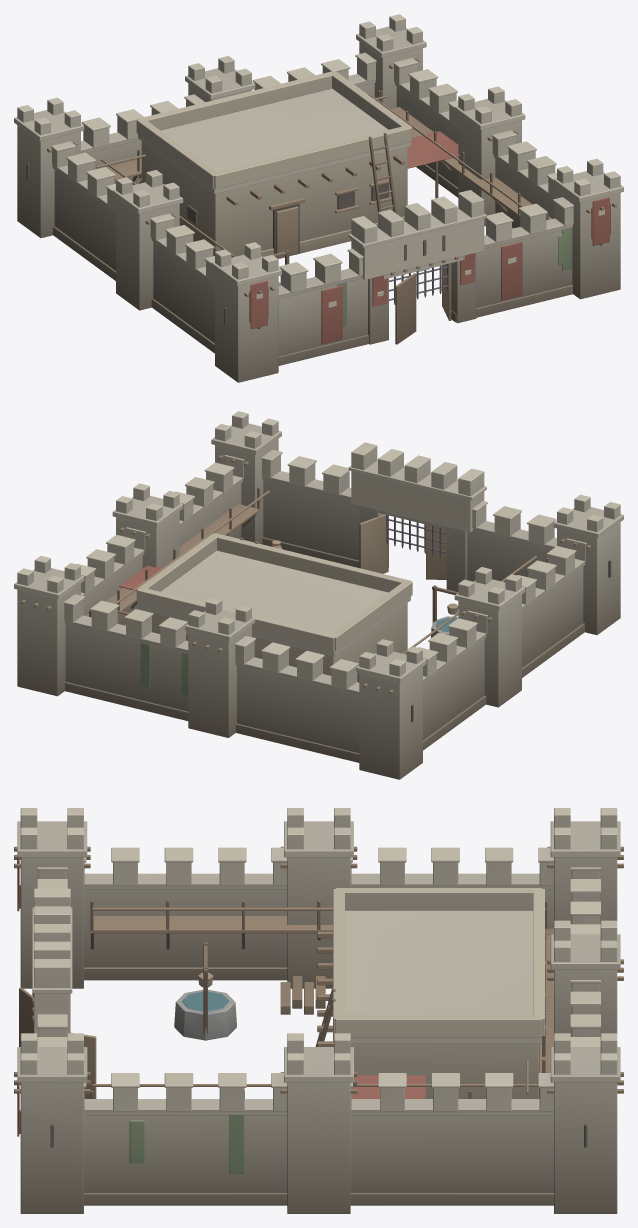
Rendered from iv_compound.glb.
The picture shows the model from 3 angles, top to bottom: view 1: azimuth 30°, elevation 25°; view 2: azimuth 150°, elevation 25°; view 3: azimuth 270°, elevation 25°; orthographic projection. The views are drawn at different scales.
Visible parts, largest first — view 1: iv_compound; view 2: iv_compound; view 3: iv_compound.
Boxes of the visible parts, x1,y1,x2,y2 form: iv_compound: (14, 14, 623, 382); iv_compound: (14, 411, 623, 779); iv_compound: (14, 808, 623, 1213).
Bounding box in the file's own units: 18.1 × 5.31 × 18.3.
